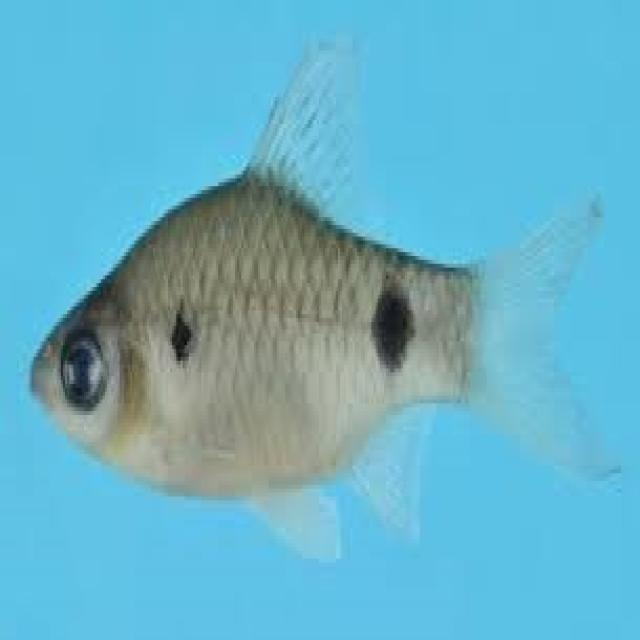Black-Spotted-Barb: (24, 50, 630, 584)
